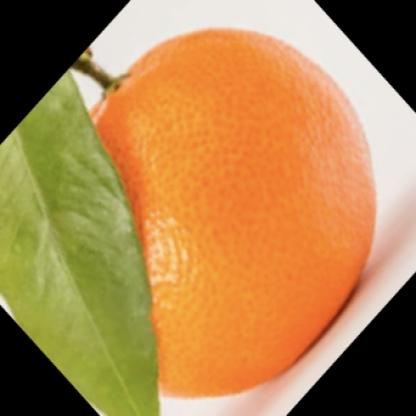fresh: (43, 29, 376, 394)
